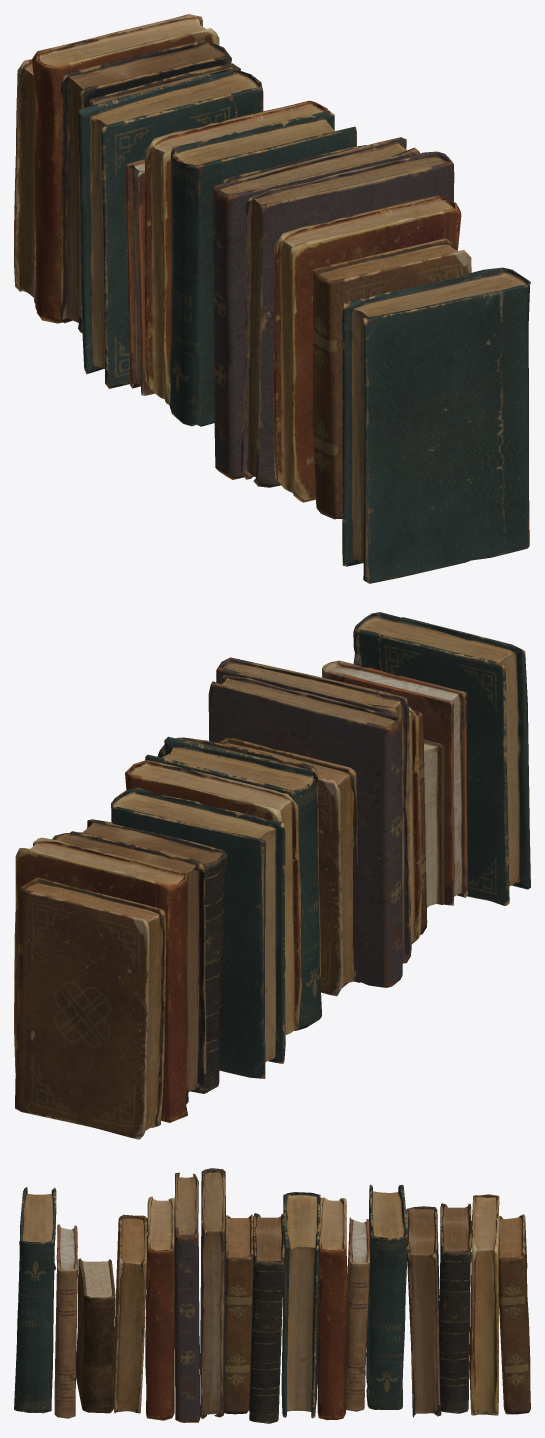
Rendered from SM_Prop_Bookset_C.fbx.
The picture shows the model from 3 angles, top to bottom: view 1: azimuth 30°, elevation 25°; view 2: azimuth 150°, elevation 25°; view 3: azimuth 270°, elevation 25°; orthographic projection. The views are drawn at different scales.
Parts seen in each view (by area): view 1: SM_Prop_Bookset_C_LOD0; view 2: SM_Prop_Bookset_C_LOD0; view 3: SM_Prop_Bookset_C_LOD0.
Boxes of the visible parts, x1,y1,x2,y2 form: SM_Prop_Bookset_C_LOD0: (14,14,530,583); SM_Prop_Bookset_C_LOD0: (14,612,530,1139); SM_Prop_Bookset_C_LOD0: (14,1168,530,1423).
Size of the model in its own units: 28.33 by 90.65 by 37.32.
1 material, 1 textured.
